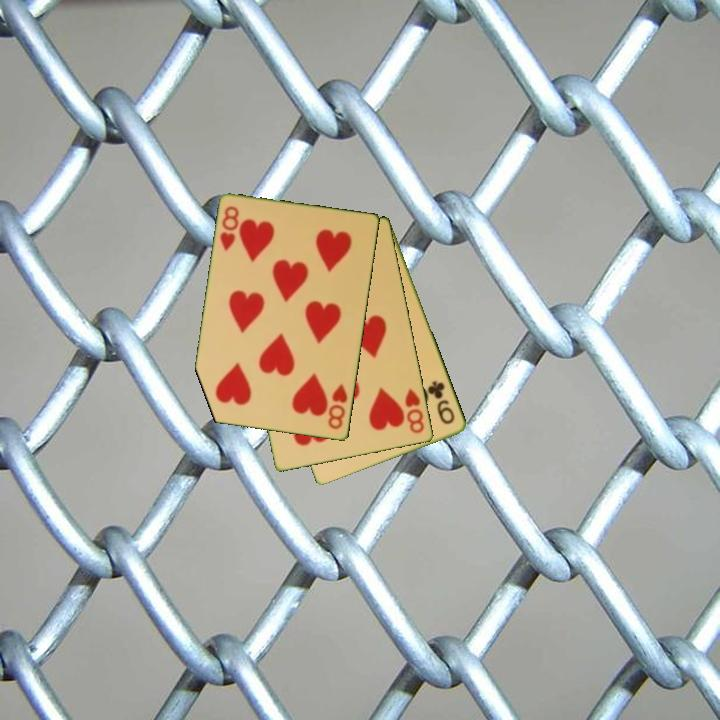8h: (325, 380, 351, 433), (216, 203, 242, 254), (402, 385, 427, 436)
9c: (425, 377, 458, 427)
